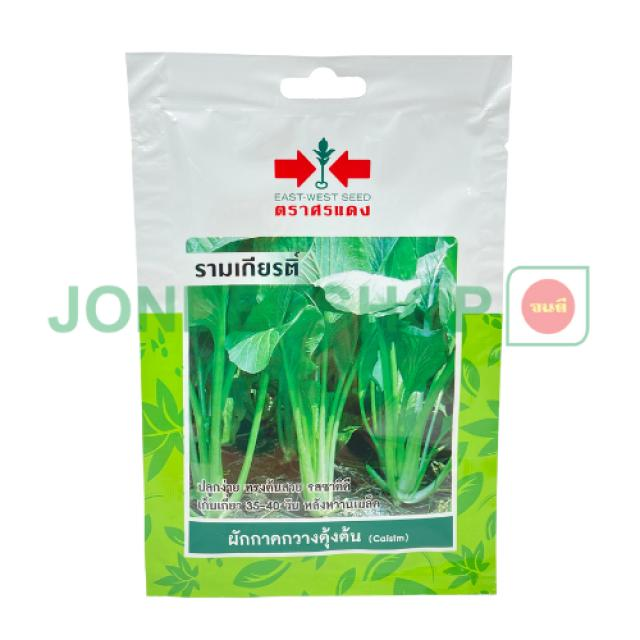bokchoy: (203, 292, 432, 465)
